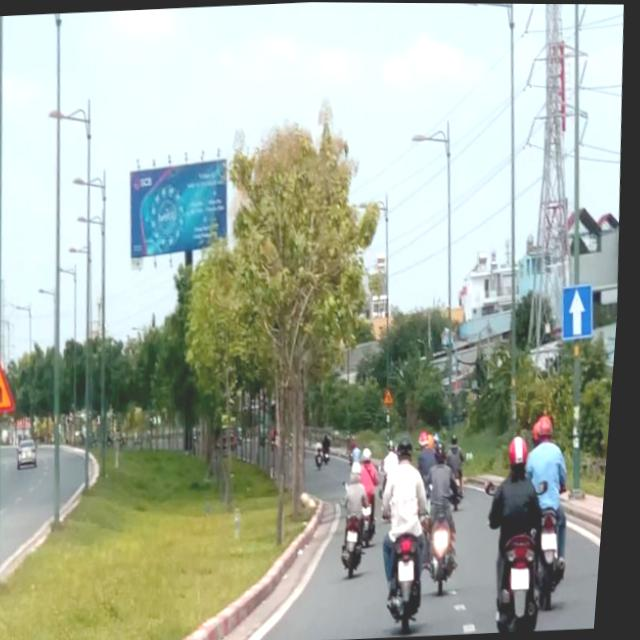Duong mot chieu: (562, 281, 602, 342)
cho ngoat nguy hiem vong ben trai: (0, 351, 27, 418), (388, 387, 401, 404)
